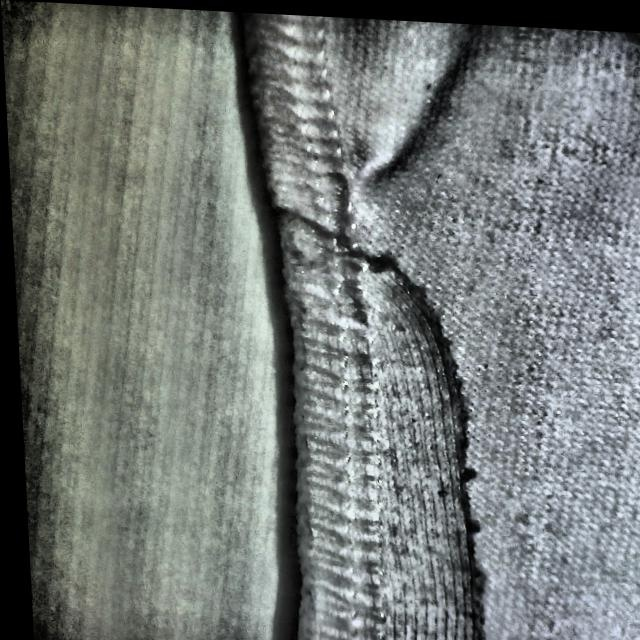seam: (271, 242, 557, 640)
